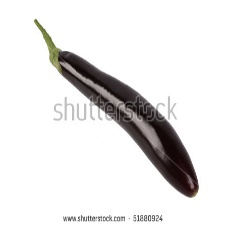eggplant: (51, 49, 200, 198)
